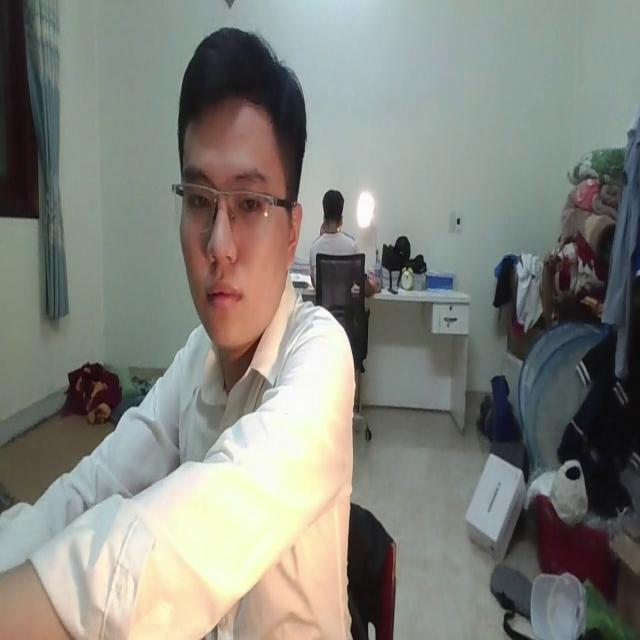extra_person: (309, 185, 361, 282)
student: (1, 19, 354, 640)
